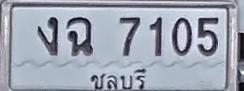0: (171, 16, 192, 55)
1: (149, 16, 162, 56)
5: (197, 16, 218, 56)
7: (119, 16, 140, 56)
A07: (37, 16, 58, 55)
A09: (66, 16, 93, 56)
CBI: (88, 64, 147, 91)
